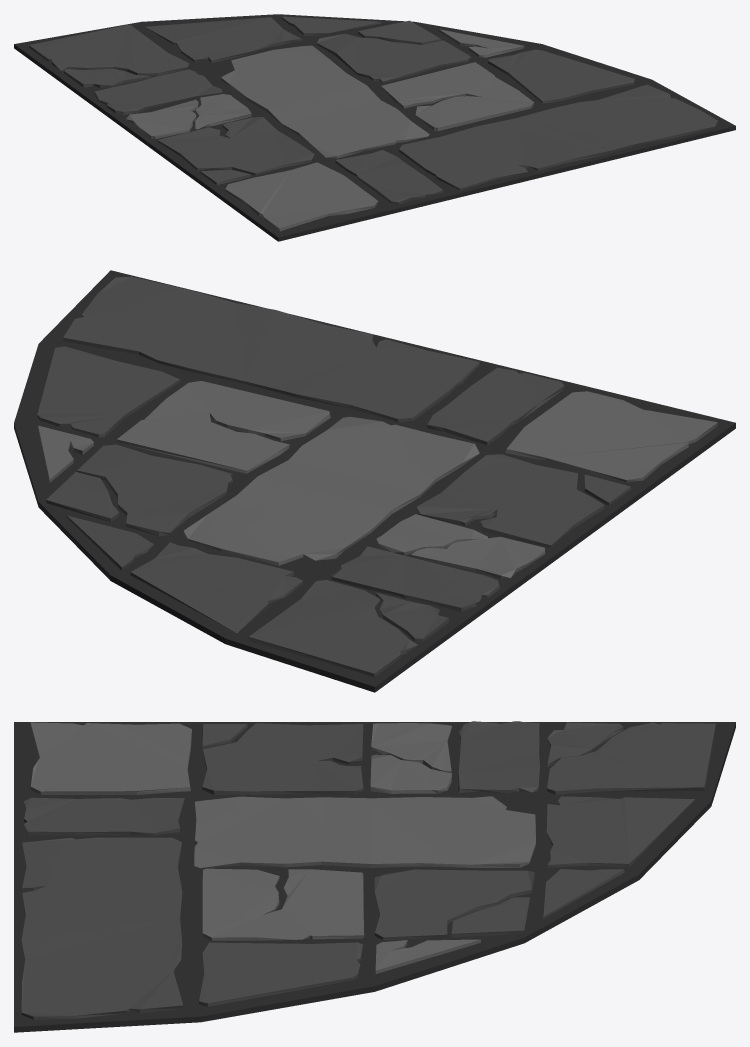
The model's file is FloorCorner_01.glb.
3 renders of one model, top to bottom at view 1: azimuth 30°, elevation 25°; view 2: azimuth 150°, elevation 25°; view 3: azimuth 270°, elevation 25°, orthographic. The views are drawn at different scales.
Parts seen in each view (by area): view 1: FloorCorner_01; view 2: FloorCorner_01; view 3: FloorCorner_01.
Part boxes in pixels (<box>): FloorCorner_01: <box>14,14,735,241</box>; FloorCorner_01: <box>14,270,735,692</box>; FloorCorner_01: <box>14,721,735,1032</box>.
Size of what is drawn, in the model's own units: 4 by 0.0634 by 4.
1 material, 1 textured.
